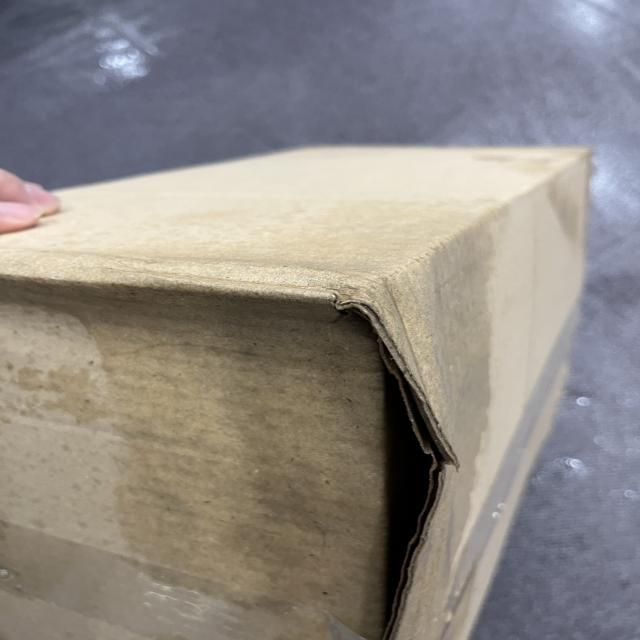hole: (346, 304, 459, 616)
wet: (90, 198, 488, 635)
